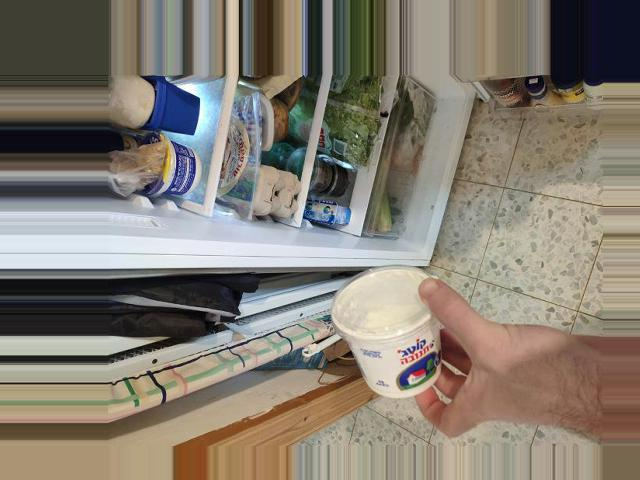cotage: (339, 293, 458, 395)
